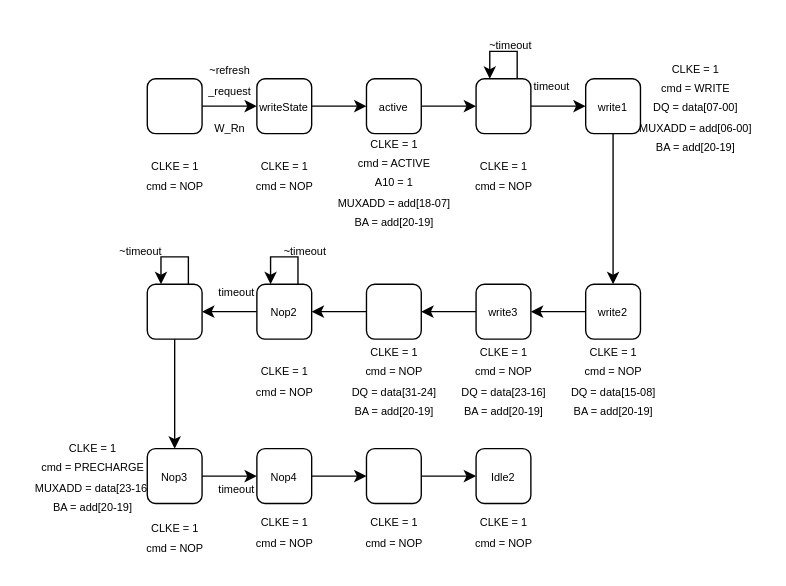
Image size: 786x586. Some labels were removed from this diagram. Each missing label, with the box of its shape:
Idle: (146, 77, 202, 134)
Nop1: (475, 77, 531, 134)
Nop5: (365, 447, 421, 503)
startTrp: (146, 283, 202, 339)
write4: (365, 283, 421, 339)
